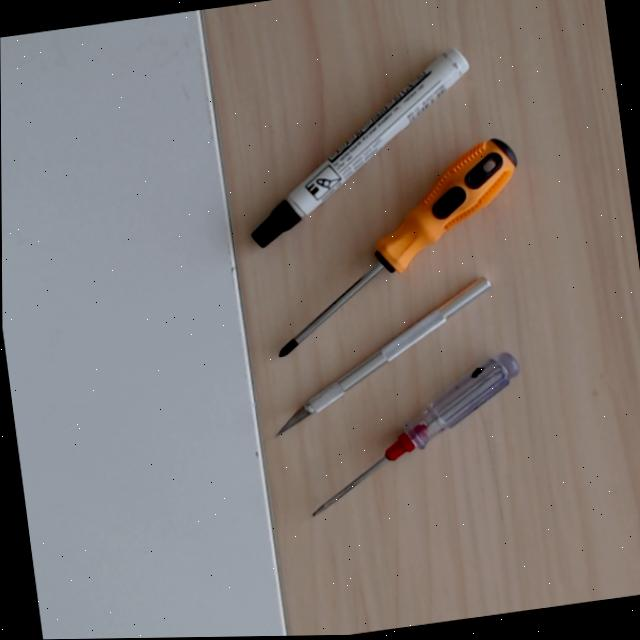Cutter-Kecil: (266, 266, 496, 444)
Marker-Pen: (245, 41, 476, 253)
Obeng-Besar: (264, 125, 529, 381)
Obeng-Kecil: (301, 345, 525, 529)
